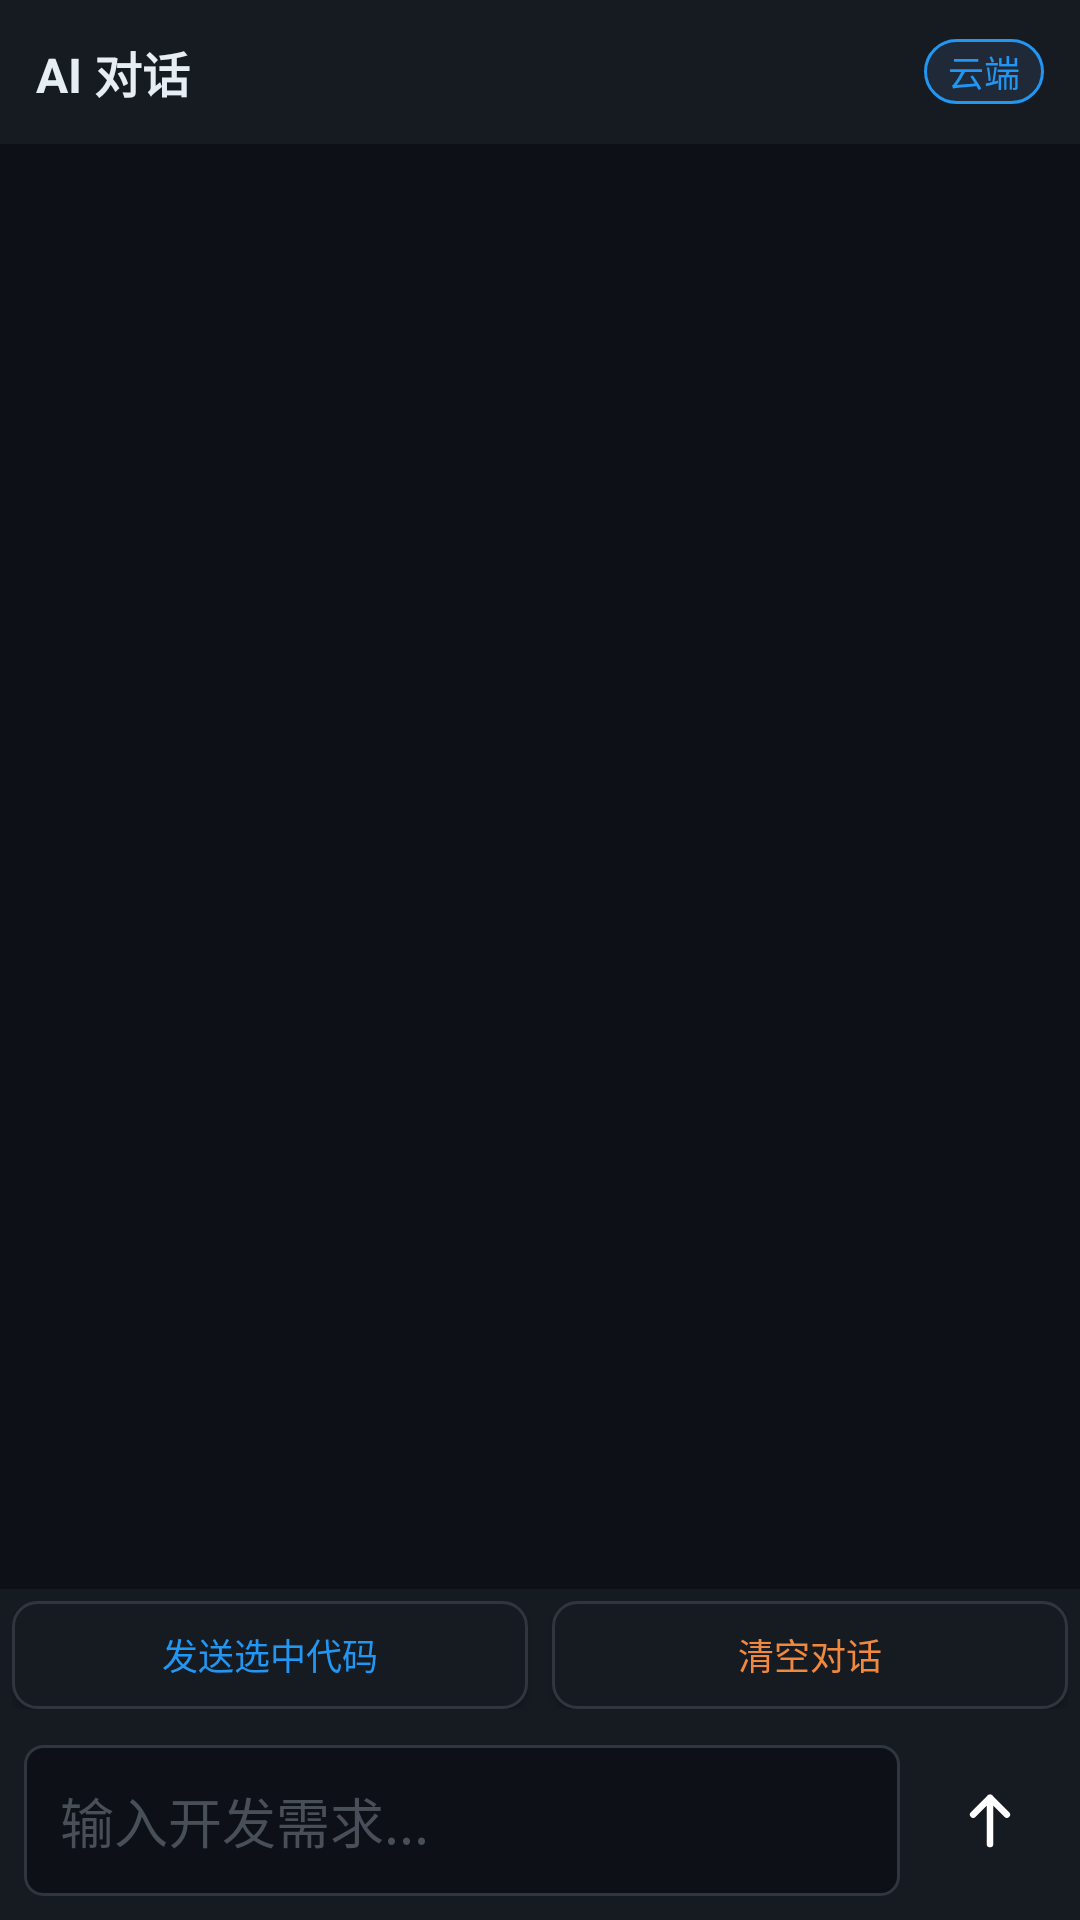

Where to tap for icons on this 1080*1920 app screen, as point (x, y):
发送: point (990, 1821)
